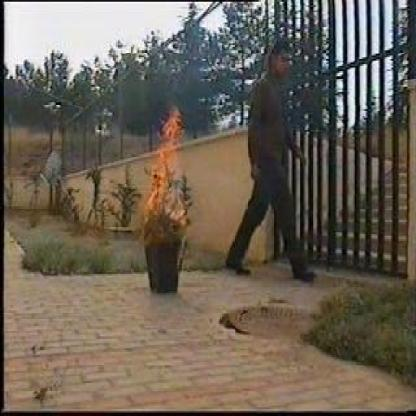foggia-v2-map80-epoch100 - v1 4323: (151, 111, 177, 211)
